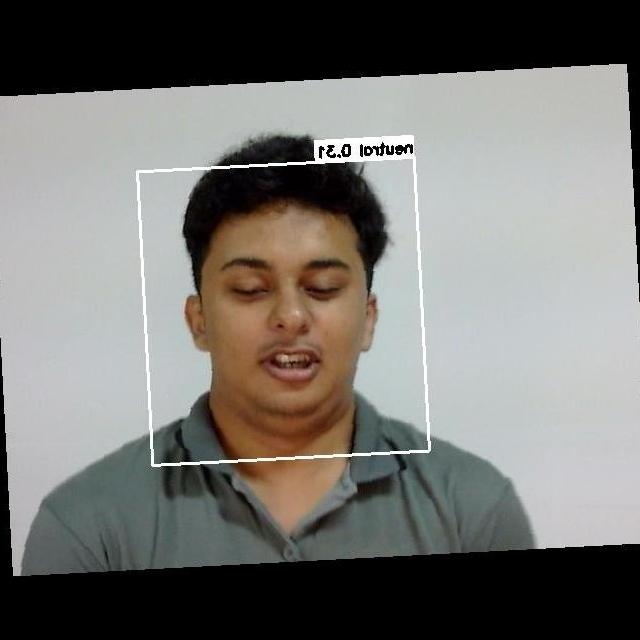Fear: (200, 234, 366, 394)
